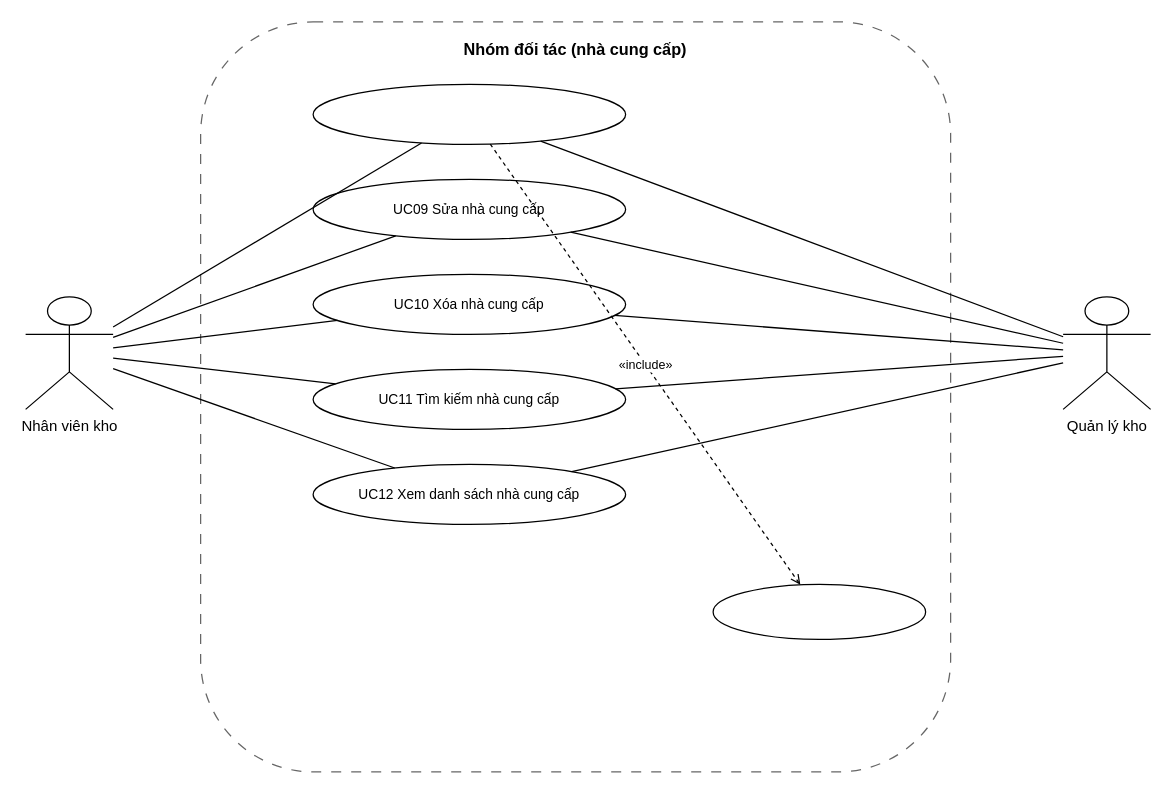
The diagram is 1173 pixels wide and 794 high, and some of its shapes have lost their labels. Each missing label, with the centre of its shape:
UC01 Đăng nhập: pixel 819 611
UC08 Thêm nhà cung cấp: pixel 469 113
